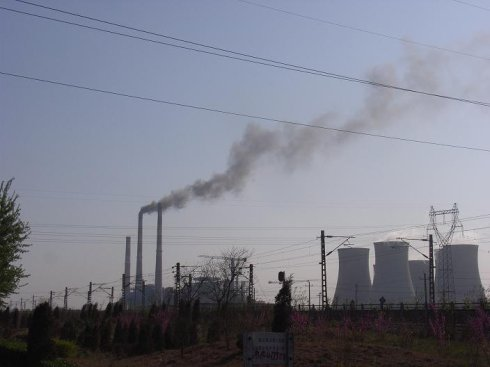dust: (131, 117, 276, 218)
